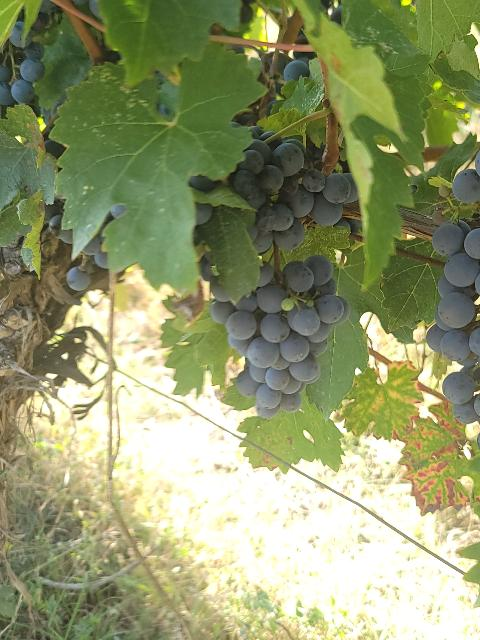grapes: (209, 255, 350, 419)
